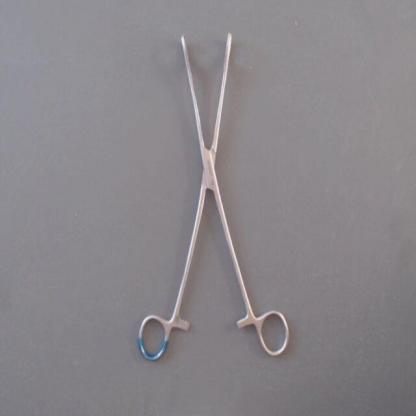Sponge Forceps: (130, 19, 295, 370)
